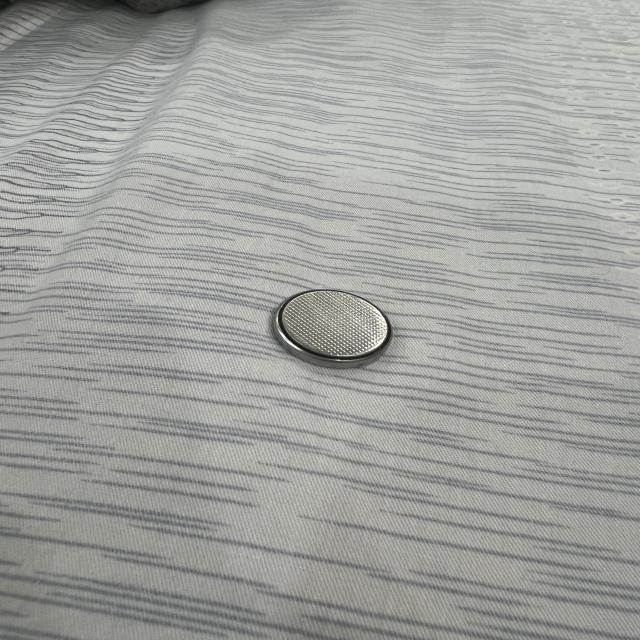COIN: (266, 285, 394, 367)
